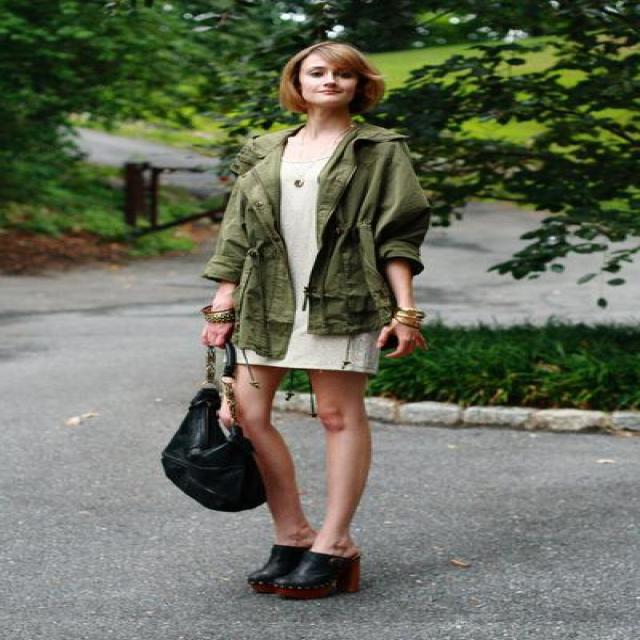bag: (162, 387, 266, 511)
dress: (249, 158, 402, 372)
jacket: (192, 124, 435, 359)
shoe: (248, 545, 360, 601)
